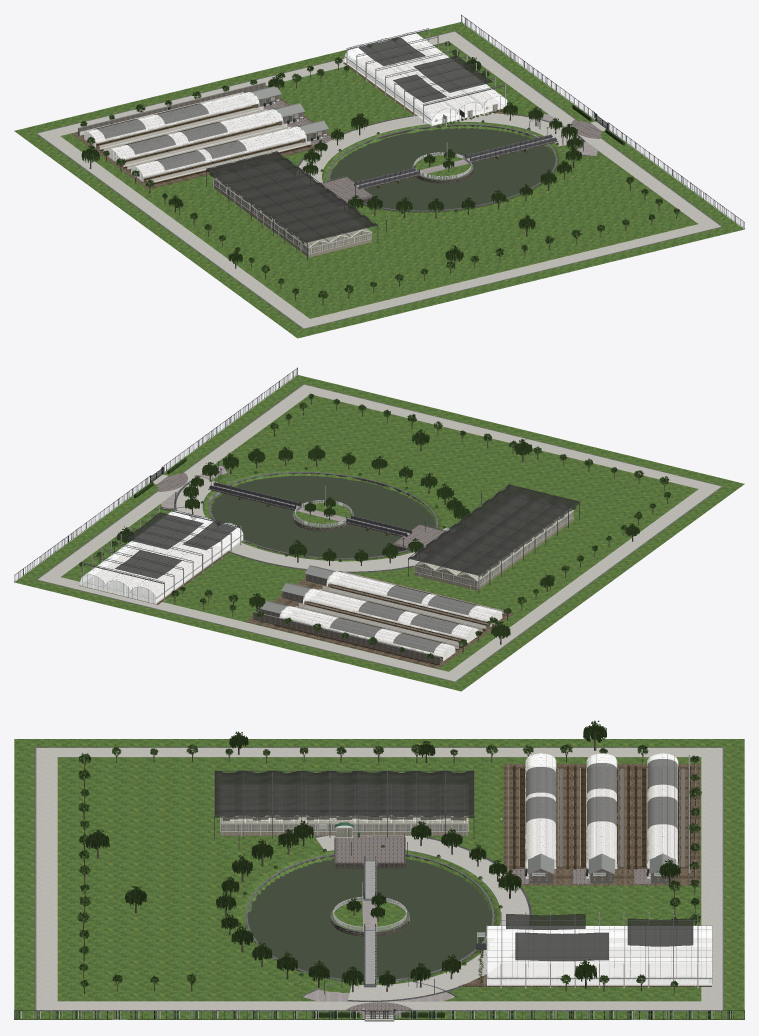
Rendered from qinhu_base_final_textured.glb.
The picture shows the model from 3 angles, top to bottom: view 1: azimuth 30°, elevation 25°; view 2: azimuth 150°, elevation 25°; view 3: azimuth 270°, elevation 25°; orthographic projection. The views are drawn at different scales.
Visible parts, largest first — view 1: SITE_Terrain, SITE_RingRoad, M03_Water_Surface, M05_ShadeNet, M07_Shade_Net, M08_Tunnel_ShadeNet, SITE_ShoreWalk, M08_Tunnel_SideFilm, M08_Tunnel3_Film, M08_Tunnel2_Film, M08_Tunnel1_Film, M08_Ground_Dirt (+24 smaller); view 2: SITE_Terrain, SITE_RingRoad, M03_Water_Surface, M05_ShadeNet, M07_Shade_Net, M08_Tunnel_ShadeNet, SITE_ShoreWalk, M08_Ground_Dirt, M08_Tunnel2_Film, M08_Tunnel3_Film, M08_Tunnel1_Film, M01_Fence (+20 smaller); view 3: SITE_Terrain, SITE_RingRoad, M03_Water_Surface, M05_ShadeNet, M08_Ground_Dirt, M07_Shade_Net, SITE_ShoreWalk, M08_Tunnel_ShadeNet, M07_Film_Bay3, M01_Fence, M08_Tunnel3_Film, M08_Tunnel2_Film (+28 smaller).
Boxes of the visible parts, x1,y1,x2,y2 form: SITE_Terrain: [14, 22, 744, 338]; SITE_RingRoad: [37, 31, 720, 328]; M03_Water_Surface: [330, 128, 555, 210]; M05_ShadeNet: [207, 151, 377, 241]; M07_Shade_Net: [359, 37, 493, 102]; M08_Tunnel_ShadeNet: [94, 103, 246, 170]; SITE_ShoreWalk: [299, 112, 582, 183]; M08_Tunnel_SideFilm: [80, 92, 310, 182]; M08_Tunnel3_Film: [134, 126, 306, 177]; M08_Tunnel2_Film: [111, 109, 282, 159]; M08_Tunnel1_Film: [87, 92, 259, 143]; M08_Ground_Dirt: [72, 87, 332, 189]; SITE_Terrain: [14, 375, 744, 691]; SITE_RingRoad: [38, 384, 721, 681]; M03_Water_Surface: [210, 475, 436, 558]; M05_ShadeNet: [409, 484, 578, 574]; M07_Shade_Net: [115, 512, 236, 578]; M08_Tunnel_ShadeNet: [330, 585, 479, 652]; SITE_ShoreWalk: [176, 477, 449, 571]; M08_Ground_Dirt: [245, 572, 514, 668]; M08_Tunnel2_Film: [303, 588, 475, 639]; M08_Tunnel3_Film: [327, 571, 499, 621]; M08_Tunnel1_Film: [279, 606, 451, 657]; M01_Fence: [14, 367, 297, 582]; SITE_Terrain: [14, 739, 744, 1019]; SITE_RingRoad: [36, 748, 722, 1010]; M03_Water_Surface: [247, 858, 492, 978]; M05_ShadeNet: [215, 770, 473, 817]; M08_Ground_Dirt: [503, 764, 700, 885]; M07_Shade_Net: [506, 914, 693, 961]; SITE_ShoreWalk: [316, 835, 529, 1000]; M08_Tunnel_ShadeNet: [526, 759, 677, 828]; M07_Film_Bay3: [487, 957, 711, 977]; M01_Fence: [14, 1010, 744, 1019]; M08_Tunnel3_Film: [525, 753, 556, 863]; M08_Tunnel2_Film: [586, 753, 617, 862].
Bounding box in the file's own units: 142 × 10.32 × 156.
75 materials, 40 textured.
